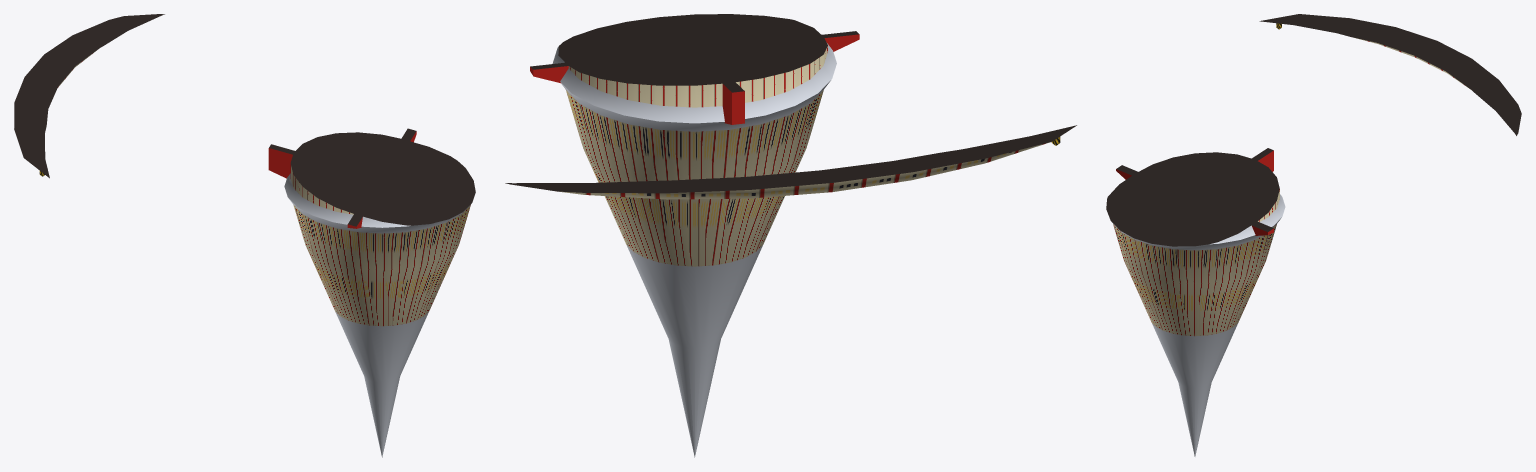
The model's file is guard_station_build3_debris1.obj.
3 views of the same model, side by side, from view 1: azimuth 30°, elevation 25°; view 2: azimuth 150°, elevation 25°; view 3: azimuth 270°, elevation 25° (orthographic). The views are drawn at different scales.
Visible parts, largest first — view 1: tower, ring, buttress315; view 2: tower, ring, buttress315, buttress225, buttress45; view 3: tower, ring, buttress315.
Boxes of the visible parts, x1,y1,x2,y2 form: tower: (284,132,475,457); ring: (14,14,164,178); buttress315: (268,144,347,178); tower: (552,14,836,457); ring: (505,125,1076,199); buttress315: (702,63,744,124); buttress225: (745,31,859,51); buttress45: (530,55,643,83); tower: (1106,152,1285,456); ring: (1259,14,1521,135); buttress315: (1216,148,1273,183).
Size of the model in its own units: 146 by 123 by 147.
5 materials, 2 textured.
